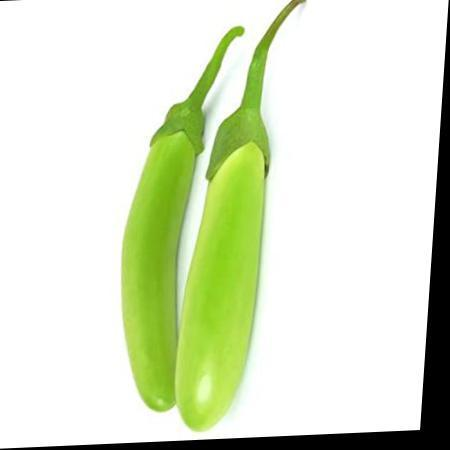eggplant: (101, 24, 350, 438)
